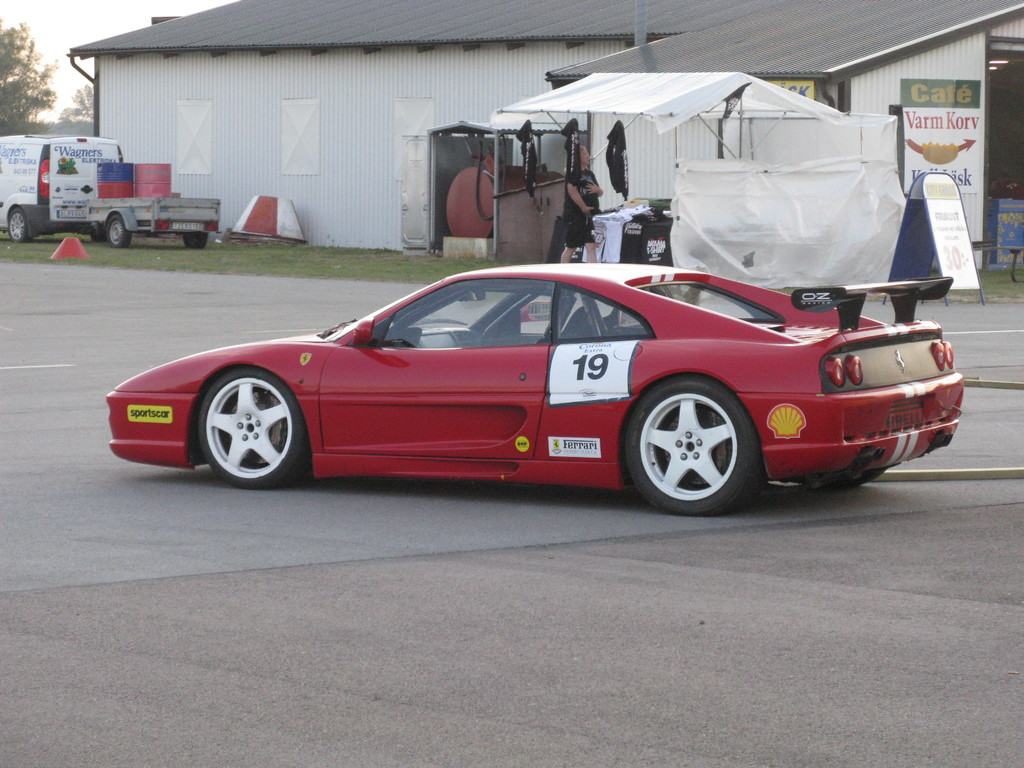Car: (103, 262, 965, 520), (0, 137, 126, 245)
